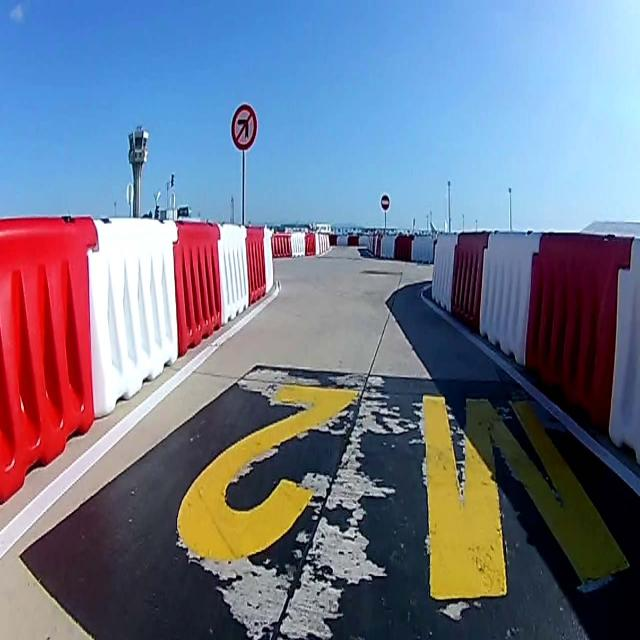soladonulmez: (231, 104, 257, 149)
